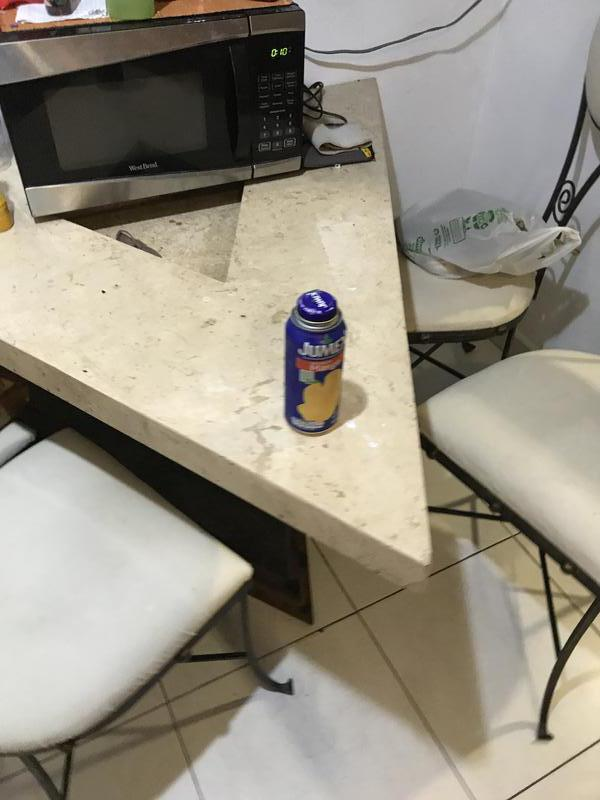jugo_jumex: (281, 288, 347, 435)
